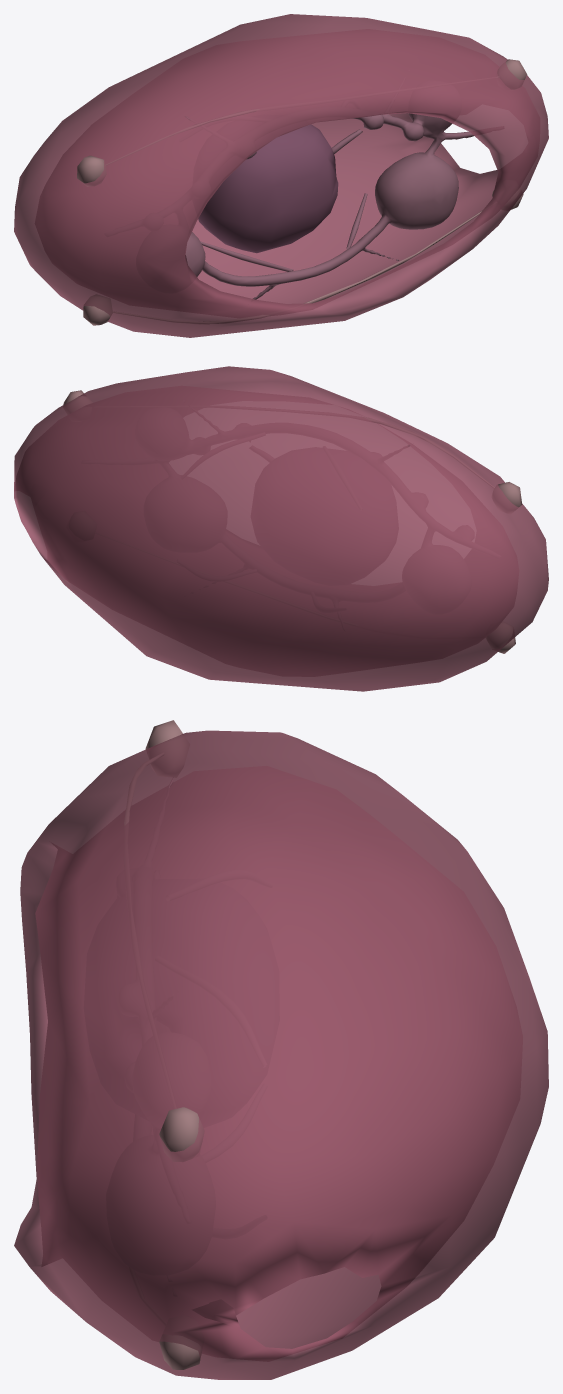
Rendered from cellular_interior_lod1.glb.
3 renders of one model, top to bottom at view 1: azimuth 30°, elevation 25°; view 2: azimuth 150°, elevation 25°; view 3: azimuth 270°, elevation 25°, orthographic. The views are drawn at different scales.
Parts seen in each view (by area): view 1: intact soft cortex.001, irregular nuclear envelope.001, Connected_Endoplasmic_Anatomy.001, tensioned cortical fiber.003, cortical anchor.004, cortical anchor.006, cortical anchor.005, cytoplasmic suspension web.006; view 2: intact soft cortex.001, cortical anchor.004, cortical anchor.006, cortical anchor.005; view 3: intact soft cortex.001, cortical anchor.005, cortical anchor.004, cortical anchor.007.
Boxes of the visible parts, box(x1,y1,x2,y2) form: intact soft cortex.001: box(14, 14, 548, 337); irregular nuclear envelope.001: box(198, 124, 338, 253); Connected_Endoplasmic_Anatomy.001: box(185, 113, 474, 299); tensioned cortical fiber.003: box(113, 210, 482, 324); cortical anchor.004: box(77, 155, 106, 186); cortical anchor.006: box(83, 294, 112, 325); cortical anchor.005: box(497, 59, 527, 89); cytoplasmic suspension web.006: box(200, 241, 293, 271); intact soft cortex.001: box(14, 366, 548, 691); cortical anchor.004: box(492, 482, 522, 514); cortical anchor.006: box(486, 621, 515, 653); cortical anchor.005: box(63, 390, 92, 414); intact soft cortex.001: box(14, 730, 548, 1379); cortical anchor.005: box(159, 1107, 204, 1161); cortical anchor.004: box(145, 720, 189, 777); cortical anchor.007: box(159, 1334, 201, 1369).
Bounding box in the file's own units: 5.81 × 3.07 × 2.96.
